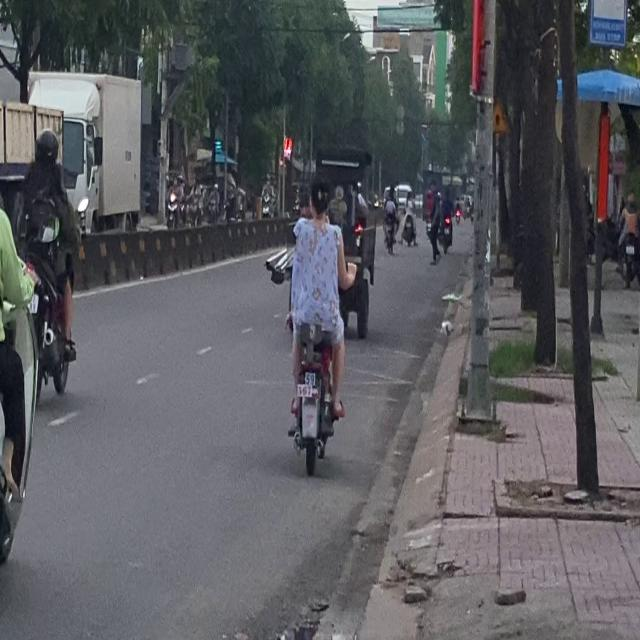helmet: (34, 128, 59, 164)
licenseplate: (280, 171, 355, 474), (18, 123, 80, 407)
motorcyclist: (307, 176, 331, 222)
